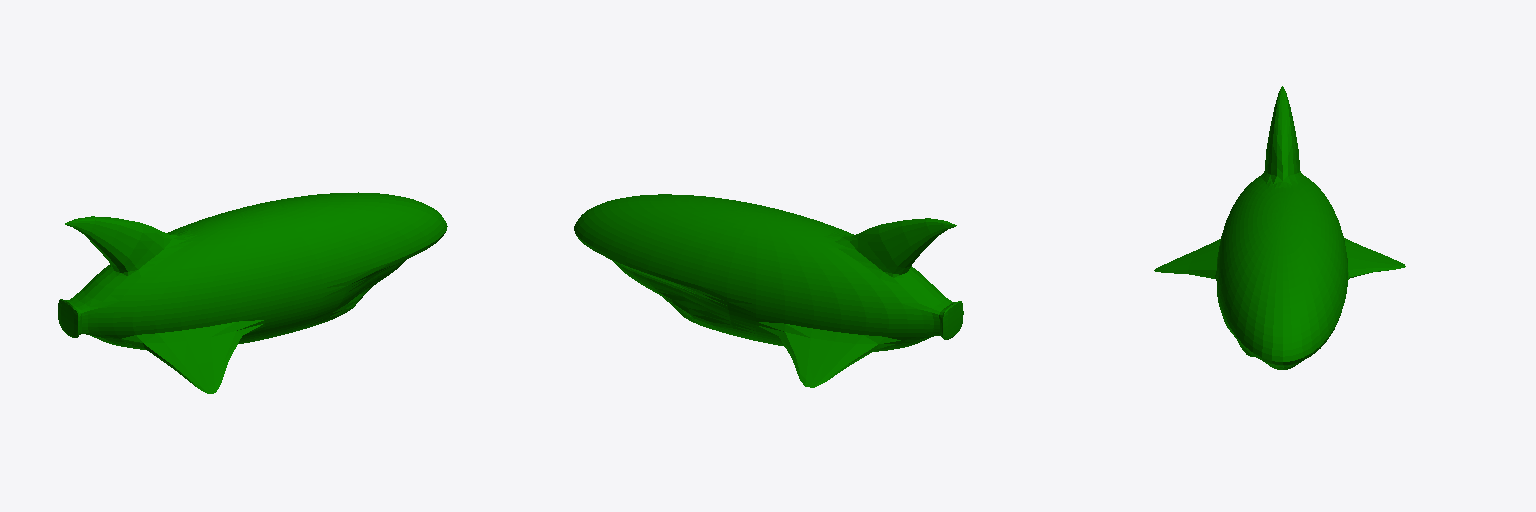
Rendered from PlanetExpress_v0.obj.
The picture shows the model from 3 angles: view 1: azimuth 30°, elevation 25°; view 2: azimuth 150°, elevation 25°; view 3: azimuth 270°, elevation 25°; orthographic projection.
Parts seen in each view (by area): view 1: pSphere1; view 2: pSphere1; view 3: pSphere1.
Part boxes in pixels (left/top/right/bottom): pSphere1: left=58, top=192, right=447, bottom=393; pSphere1: left=574, top=194, right=963, bottom=387; pSphere1: left=1154, top=86, right=1405, bottom=369.
Size of the model in its own units: 6.54 by 2.6 by 3.77.